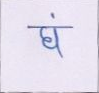anusvara: (51, 13, 55, 18)
